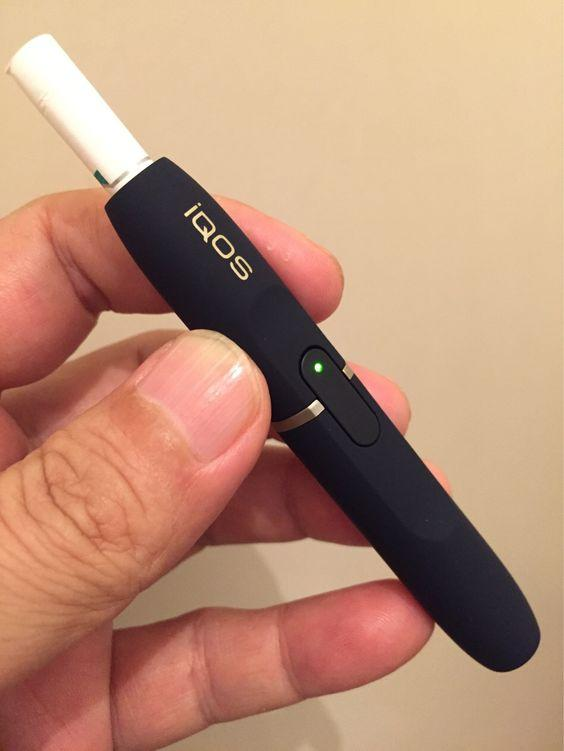iqos: (8, 35, 540, 671)
